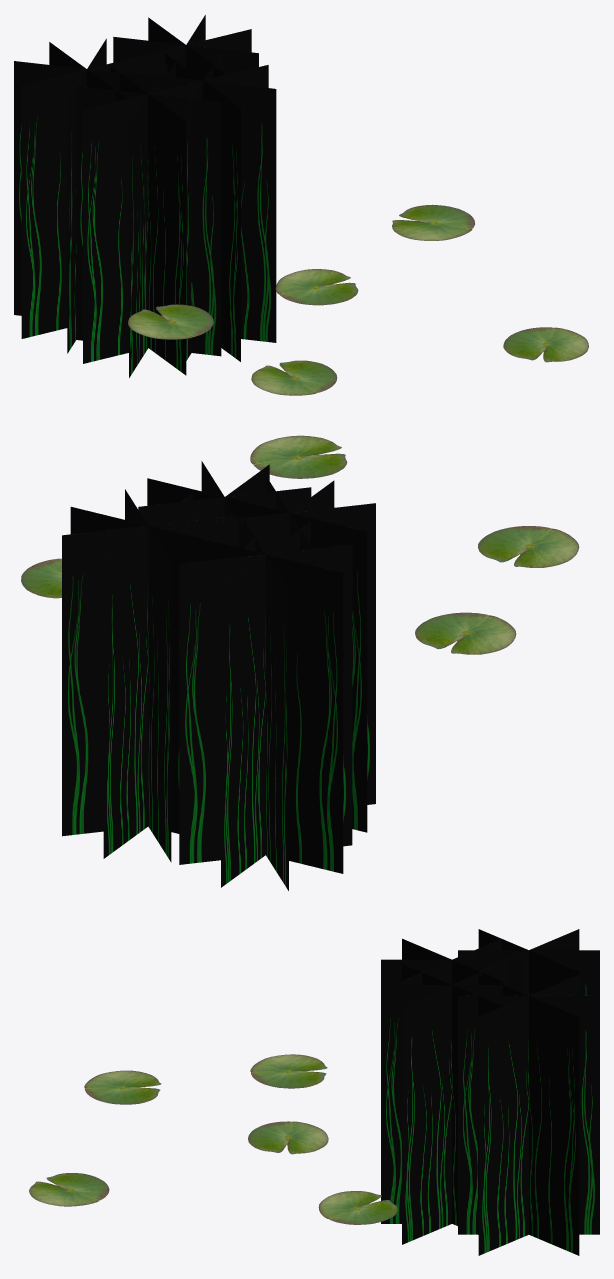
Rendered from vegetacion.obj.
3 renders of one model, top to bottom at view 1: azimuth 30°, elevation 25°; view 2: azimuth 150°, elevation 25°; view 3: azimuth 270°, elevation 25°, orthographic. The views are drawn at different scales.
Parts seen in each view (by area): view 1: pasted__polySurface148 polySurface107, pasted__polySurface148 polySurface109, pasted__polySurface148 polySurface118, pasted__polySurface148 polySurface116, pasted__polySurface148 polySurface95, pasted__polySurface148 polySurface117, pasted__polySurface148 polySurface102, pasted__polySurface148 polySurface84, polySurface106 pasted__polySurface148, pasted__polySurface148 polySurface91, pasted__polySurface148 polySurface99, pasted__polySurface148 polySurface93 (+8 smaller); view 2: pasted__polySurface148 polySurface107, polySurface106 pasted__polySurface148, pasted__polySurface148 polySurface86, pasted__polySurface148 polySurface104, pasted__polySurface148 polySurface114, pasted__polySurface148 polySurface105, pasted__polySurface148 polySurface84, pasted__polySurface148 polySurface109, pasted__polySurface148 polySurface92, pasted__polySurface148 polySurface102, pasted__polySurface148 polySurface99, pasted__polySurface148 polySurface91 (+7 smaller); view 3: pasted__polySurface148 polySurface105, pasted__polySurface148 polySurface114, pasted__polySurface148 polySurface116, pasted__polySurface148 polySurface86, pasted__polySurface148 polySurface117, pasted__polySurface148 polySurface108, pasted__polySurface148 polySurface93, pasted__polySurface148 polySurface99, pasted__polySurface148 polySurface91, pasted__polySurface148 polySurface101, pasted__polySurface148 polySurface113, pasted__polySurface148 polySurface104 (+5 smaller).
Boxes of the visible parts, x1,y1,x2,y2 form: pasted__polySurface148 polySurface107: [21, 54, 152, 338]; pasted__polySurface148 polySurface109: [83, 78, 213, 363]; pasted__polySurface148 polySurface118: [75, 86, 221, 356]; pasted__polySurface148 polySurface116: [130, 72, 276, 342]; pasted__polySurface148 polySurface95: [110, 67, 186, 375]; pasted__polySurface148 polySurface117: [165, 53, 240, 361]; pasted__polySurface148 polySurface102: [129, 63, 167, 377]; pasted__polySurface148 polySurface84: [14, 61, 159, 315]; polySurface106 pasted__polySurface148: [67, 38, 106, 353]; pasted__polySurface148 polySurface91: [251, 360, 337, 395]; pasted__polySurface148 polySurface99: [128, 304, 213, 339]; pasted__polySurface148 polySurface93: [275, 269, 358, 305]; pasted__polySurface148 polySurface107: [188, 535, 343, 873]; polySurface106 pasted__polySurface148: [179, 544, 352, 864]; pasted__polySurface148 polySurface86: [103, 493, 192, 858]; pasted__polySurface148 polySurface104: [221, 521, 310, 887]; pasted__polySurface148 polySurface114: [62, 516, 234, 836]; pasted__polySurface148 polySurface105: [125, 489, 171, 862]; pasted__polySurface148 polySurface84: [243, 519, 288, 890]; pasted__polySurface148 polySurface109: [212, 495, 367, 832]; pasted__polySurface148 polySurface92: [70, 507, 225, 833]; pasted__polySurface148 polySurface102: [203, 503, 375, 804]; pasted__polySurface148 polySurface99: [415, 612, 516, 654]; pasted__polySurface148 polySurface91: [478, 526, 579, 567]; pasted__polySurface148 polySurface105: [478, 975, 579, 1255]; pasted__polySurface148 polySurface114: [478, 975, 579, 1255]; pasted__polySurface148 polySurface116: [402, 964, 502, 1244]; pasted__polySurface148 polySurface86: [458, 995, 599, 1234]; pasted__polySurface148 polySurface117: [381, 985, 523, 1223]; pasted__polySurface148 polySurface108: [402, 964, 502, 1234]; pasted__polySurface148 polySurface93: [248, 1121, 328, 1154]; pasted__polySurface148 polySurface99: [250, 1054, 327, 1088]; pasted__polySurface148 polySurface91: [84, 1070, 161, 1104]; pasted__polySurface148 polySurface101: [29, 1173, 109, 1206]; pasted__polySurface148 polySurface113: [318, 1191, 397, 1224]; pasted__polySurface148 polySurface104: [458, 950, 599, 995].
Size of the model in its own units: 9.46 by 5.91 by 13.13.
Materials: 2 (2 with a texture image).
